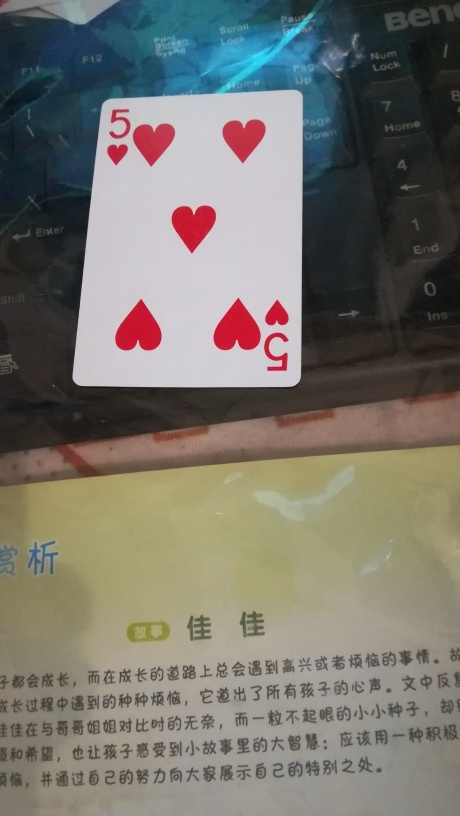hx 5: (72, 86, 306, 388)
